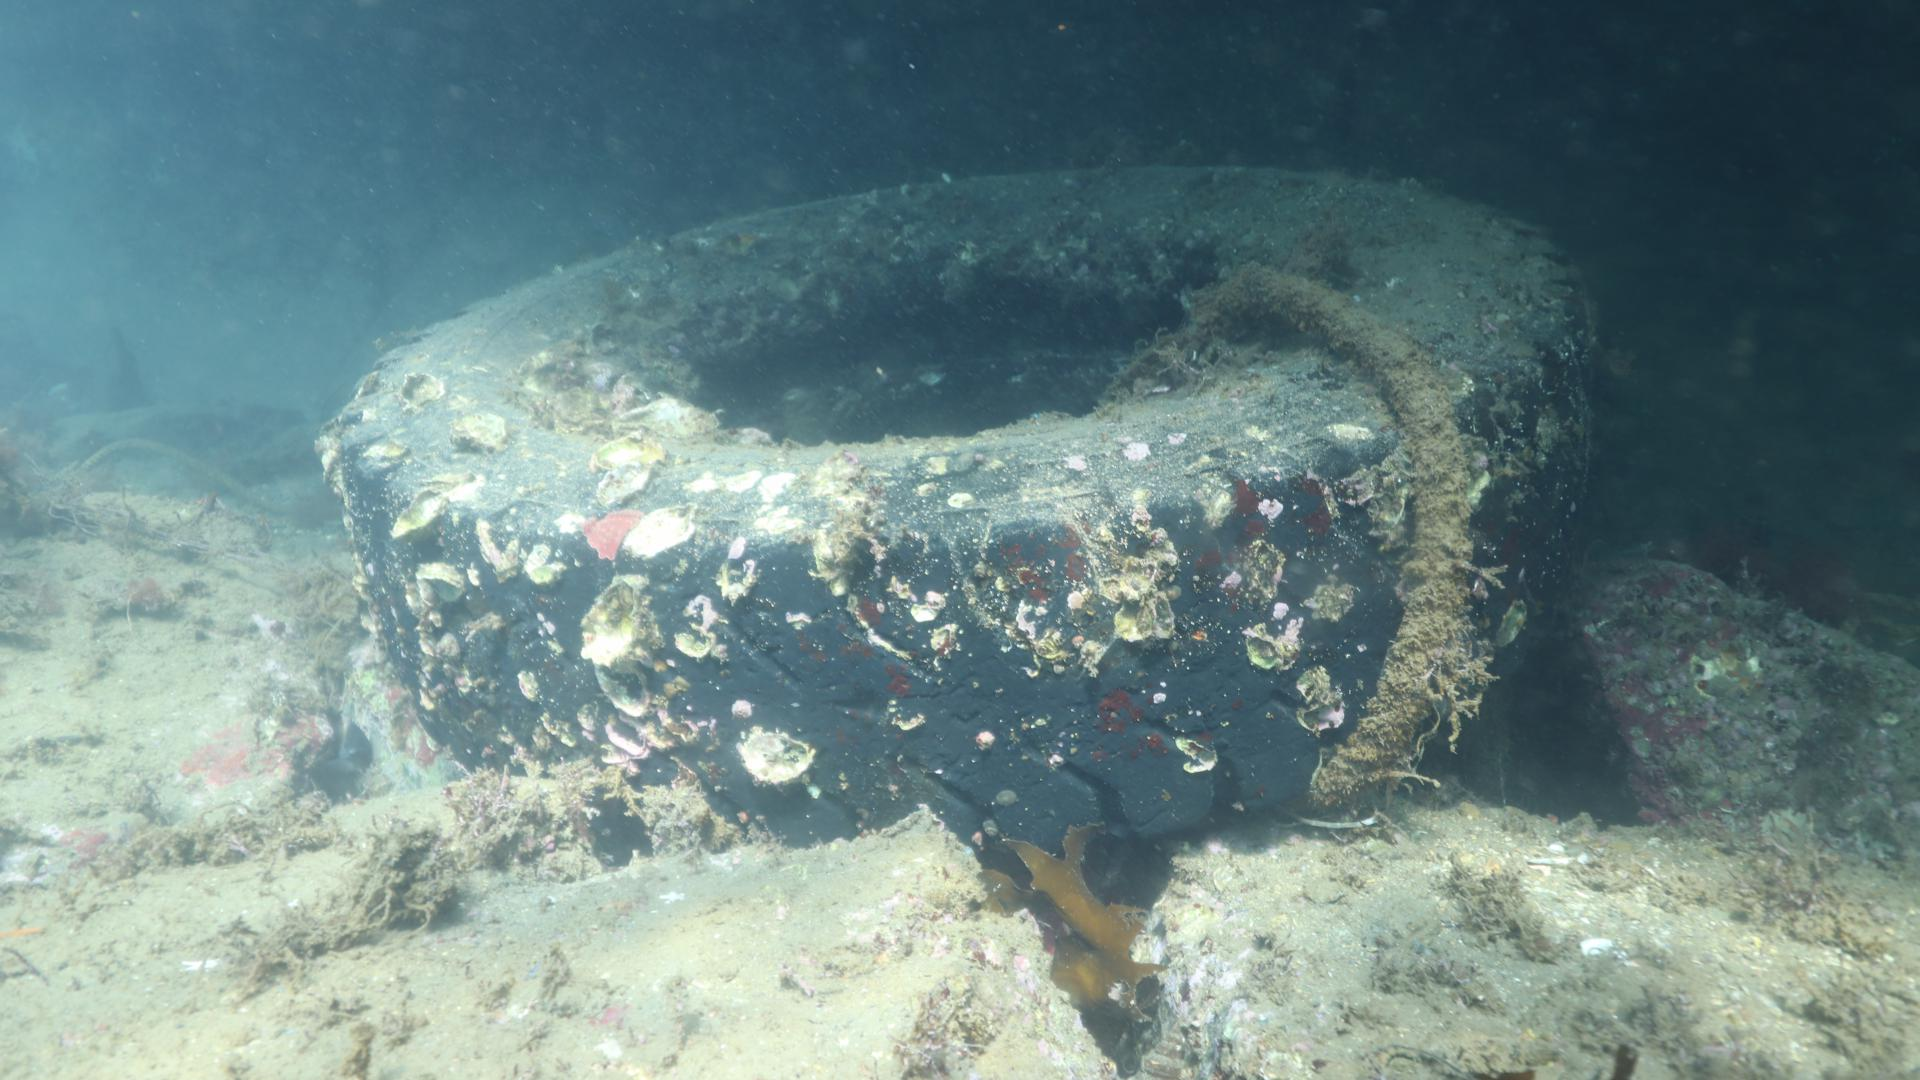rope: (1163, 260, 1485, 845)
tire: (327, 153, 1604, 865)
